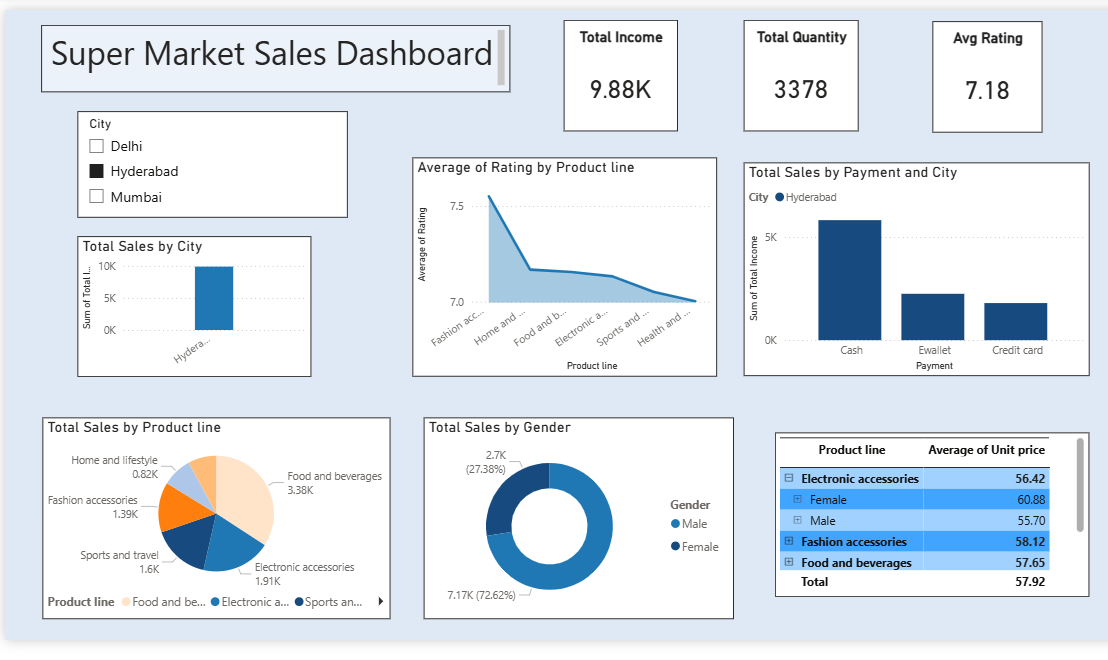

What the dashboard file says about the page in this screenshot:
{"tool":"powerbi","page":{"name":"Page 1","canvas":[1280,720],"ordinal":0},"visuals":[{"type":"textbox","box":[41.4,17.1,535.7,77.1],"z":0},{"type":"columnChart","title":"Total Sales by City","fields":{"Y":["Sum(Realmart Sales Dataset.gross income)"],"Category":["Realmart Sales Dataset.City"]},"box":[82.3,258,267.6,160.5],"z":4000},{"type":"clusteredColumnChart","title":"Total Sales by Payment and City","fields":{"Category":["Realmart Sales Dataset.Payment"],"Y":["Sum(Realmart Sales Dataset.gross income)"],"Series":["Realmart Sales Dataset.City"]},"box":[843.9,174.3,395.2,244.3],"z":5000},{"type":"areaChart","fields":{"Category":["Realmart Sales Dataset.Product line"],"Y":["Avg(Realmart Sales Dataset.Rating)"]},"box":[465,168.3,348.3,250],"z":6000},{"type":"pieChart","title":"Total Sales by Product line","fields":{"Category":["Realmart Sales Dataset.Product line"],"Y":["Sum(Realmart Sales Dataset.gross income)"]},"box":[42.5,465.2,397.9,230.5],"z":7000},{"type":"donutChart","title":"Total Sales by Gender","fields":{"Category":["Realmart Sales Dataset.Gender"],"Y":["Sum(Realmart Sales Dataset.gross income)"]},"box":[478.9,465.2,354,230.5],"z":8000},{"type":"pivotTable","fields":{"Rows":["Realmart Sales Dataset.Product line","Realmart Sales Dataset.Gender","Realmart Sales Dataset.City"],"Values":["Avg(Realmart Sales Dataset.Unit price)"]},"box":[879.6,483,359.5,188],"z":9000},{"type":"slicer","fields":{"Values":["Realmart Sales Dataset.City"]},"box":[82.9,115.7,308.6,121.4],"z":10000},{"type":"card","title":"Total Income ","fields":{"Values":["Sum(Realmart Sales Dataset.Total Income)"]},"box":[638.6,11.4,130,127.1],"z":10001},{"type":"card","title":"Total Quantity","fields":{"Values":["Sum(Realmart Sales Dataset.Quantity)"]},"box":[844.3,11.4,131.4,127.1],"z":10002},{"type":"card","title":"Avg Rating","fields":{"Values":["Avg(Realmart Sales Dataset.Rating)"]},"box":[1060,12.9,125.7,127.1],"z":10003}]}

Visuals, with their boxes in screenshot pixels (x1, y1, x2, y2):
textbox: detection(31, 21, 505, 89)
"Total Sales by City" columnChart: detection(67, 234, 304, 376)
"Total Sales by Payment and City" clusteredColumnChart: detection(741, 160, 1091, 376)
areaChart - Realmart Sales Dataset.Product line x Avg(Realmart Sales Dataset.Rating): detection(406, 155, 714, 376)
"Total Sales by Product line" pieChart: detection(32, 417, 384, 621)
"Total Sales by Gender" donutChart: detection(418, 417, 731, 621)
pivotTable - Realmart Sales Dataset.Product line x Realmart Sales Dataset.Gender: detection(773, 433, 1091, 600)
slicer - Realmart Sales Dataset.City: detection(68, 108, 341, 216)
"Total Income " card: detection(559, 16, 674, 128)
"Total Quantity" card: detection(741, 16, 858, 128)
"Avg Rating" card: detection(932, 17, 1044, 130)
